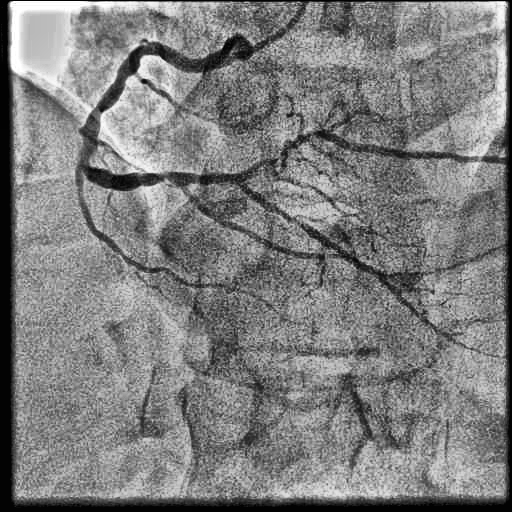pborca: (244, 130, 493, 176)
pda: (241, 183, 436, 328)
rca: (79, 41, 243, 190)
